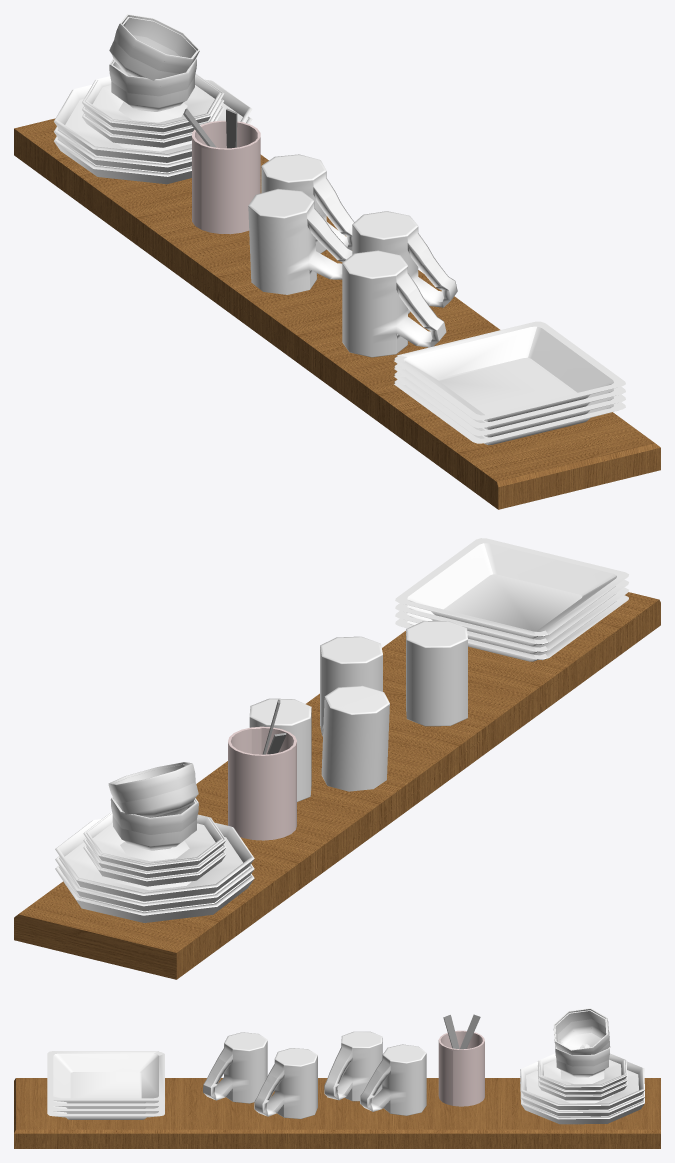
The model's file is BarraTrastes.obj.
3 views of the same model, one above another, from view 1: azimuth 30°, elevation 25°; view 2: azimuth 150°, elevation 25°; view 3: azimuth 270°, elevation 25° (orthographic). The views are drawn at different scales.
Parts seen in each view (by area): view 1: BarraTrastes:pCylinder7group4; view 2: BarraTrastes:pCylinder7group4; view 3: BarraTrastes:pCylinder7group4.
Part boxes in pixels (x1=…): BarraTrastes:pCylinder7group4: x1=14, y1=14, x2=660, y2=509; BarraTrastes:pCylinder7group4: x1=14, y1=538, x2=660, y2=979; BarraTrastes:pCylinder7group4: x1=14, y1=1008, x2=660, y2=1148.
Size of the model in its own units: 0.362 by 0.3339 by 1.86.
6 materials, 6 textured.
